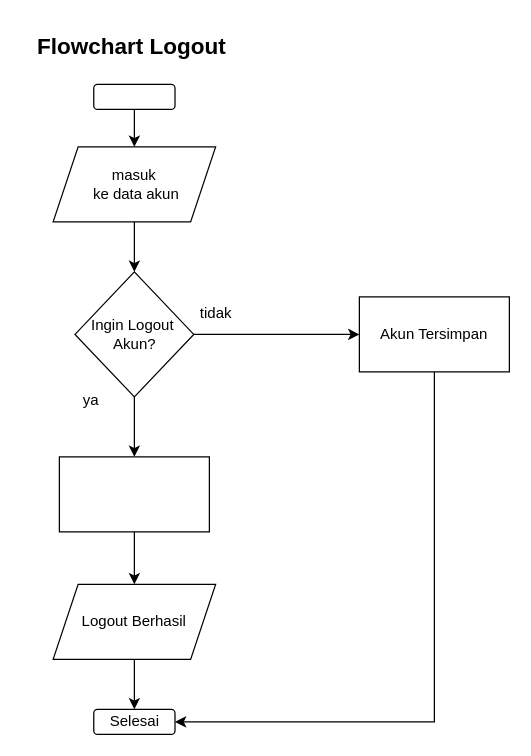
This 531x756 diagram has some shape labels left out. The shapes that lost their labels are listed below. From the top down, each one's box as (x1, y1, x2, y2) in pixels, then its label:
(92, 83, 175, 109): Mulai
(58, 456, 209, 532): Keluarkan akun dari server
